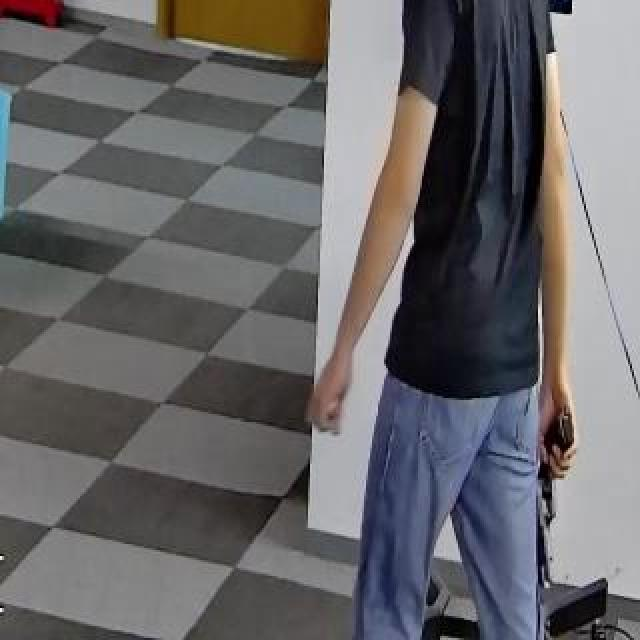Guns: (525, 394, 582, 586)
